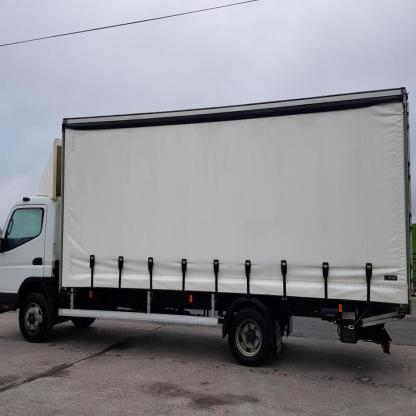truck: (1, 89, 411, 365)
